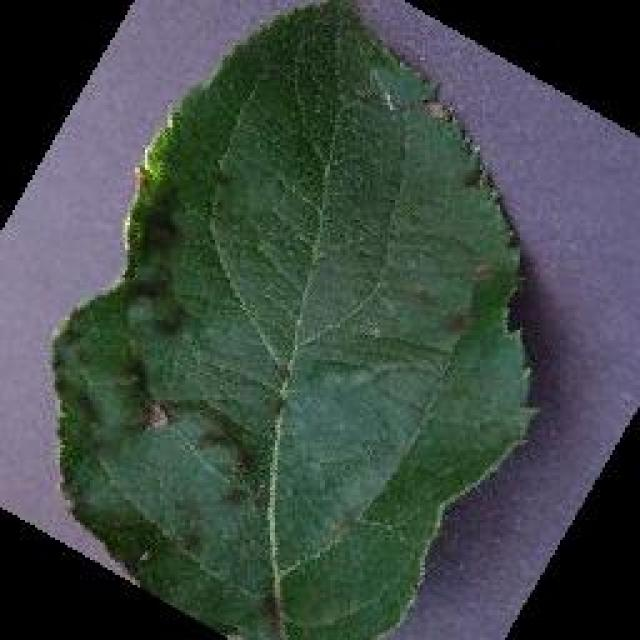Apple___Apple_scab: (46, 0, 545, 638)
